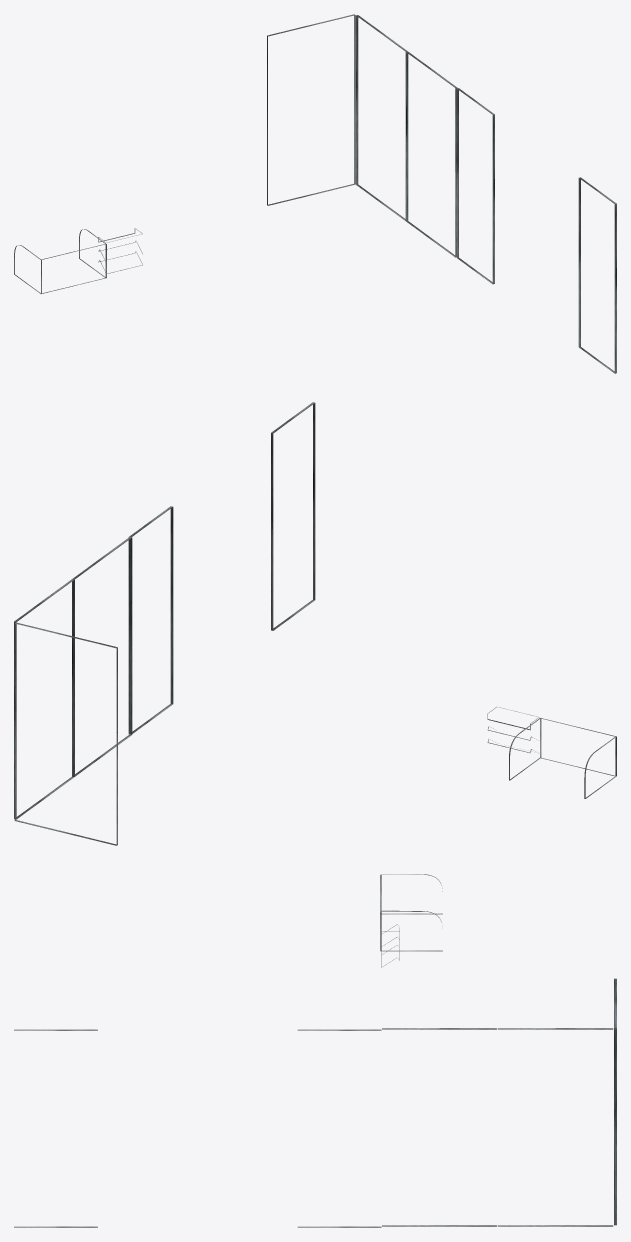
File: store_71.obj
3 renders of one model, top to bottom at view 1: azimuth 30°, elevation 25°; view 2: azimuth 150°, elevation 25°; view 3: azimuth 270°, elevation 25°, orthographic. The views are drawn at different scales.
Bounding box in the file's own units: 418 × 162 × 448.
